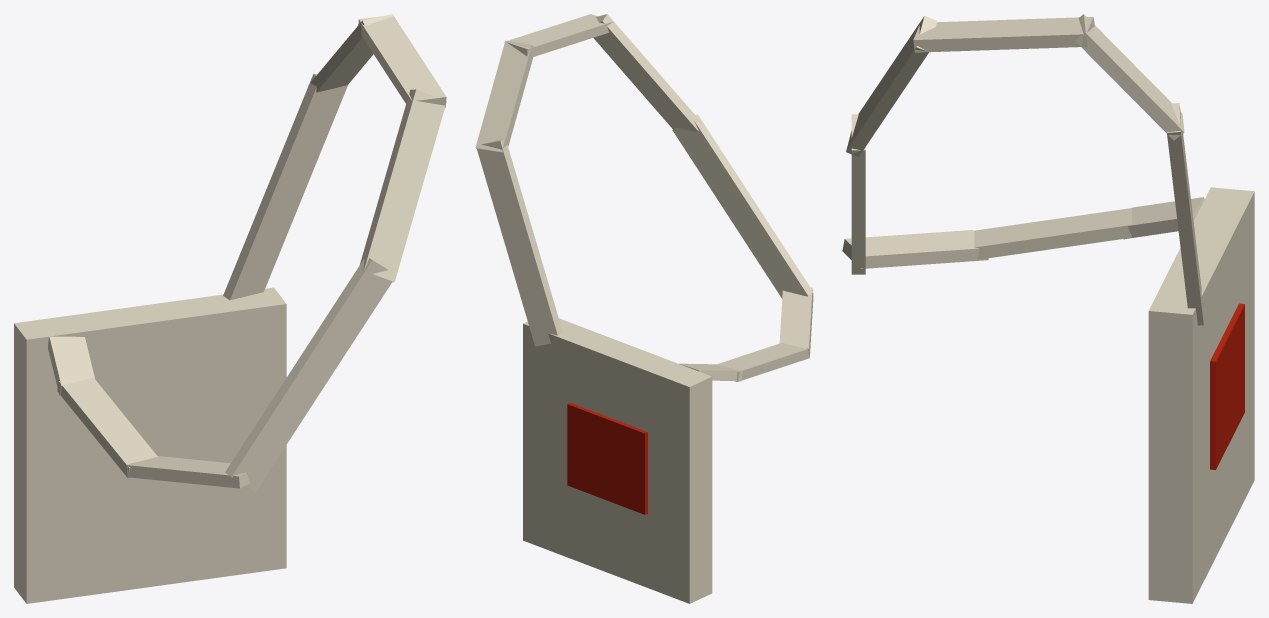
Rendered from tote-bag.glb.
The picture shows the model from 3 angles, left to right: view 1: azimuth 30°, elevation 25°; view 2: azimuth 150°, elevation 25°; view 3: azimuth 270°, elevation 25°; orthographic projection. The views are drawn at different scales.
Visible parts, largest first — view 1: tote-bag; view 2: tote-bag; view 3: tote-bag.
Part boxes in pixels (left/top/right/bottom): tote-bag: left=14, top=14, right=446, bottom=603; tote-bag: left=475, top=14, right=813, bottom=603; tote-bag: left=842, top=14, right=1254, bottom=603.
Size of the model in its own units: 0.4039 by 0.676 by 0.4137.
1 material, 1 textured.
